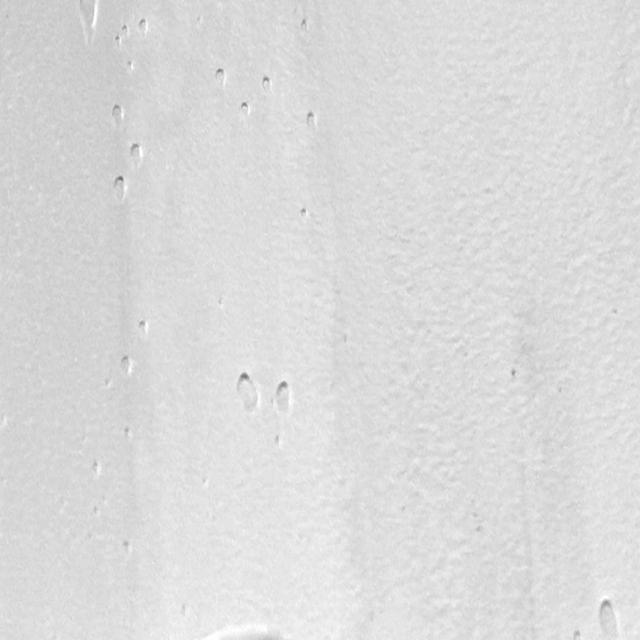pin holes: (231, 372, 265, 422), (594, 596, 626, 640), (73, 0, 99, 35), (274, 379, 298, 416), (110, 173, 130, 202), (302, 111, 322, 136), (110, 103, 129, 128), (120, 356, 138, 380), (128, 142, 146, 166), (214, 66, 231, 89), (136, 316, 152, 338), (260, 76, 274, 98), (89, 460, 104, 480), (239, 99, 253, 119), (136, 16, 150, 36), (298, 205, 314, 222), (121, 539, 135, 557), (122, 425, 136, 443), (509, 368, 523, 386), (271, 433, 285, 451), (217, 296, 230, 311), (300, 17, 312, 33), (125, 58, 136, 74), (200, 475, 211, 490), (121, 21, 131, 37), (114, 36, 125, 50), (572, 628, 586, 639), (102, 375, 112, 390)
